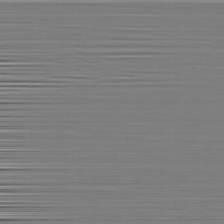cavities: (23, 64, 157, 123)
